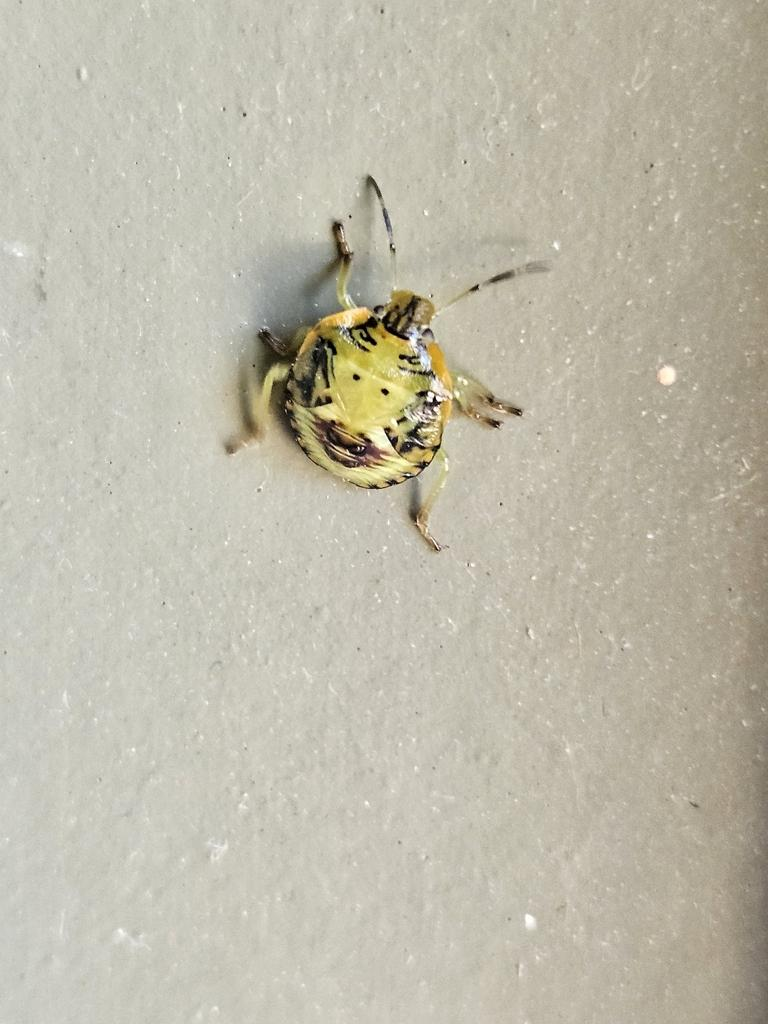stink_bugs: (179, 148, 597, 629)
